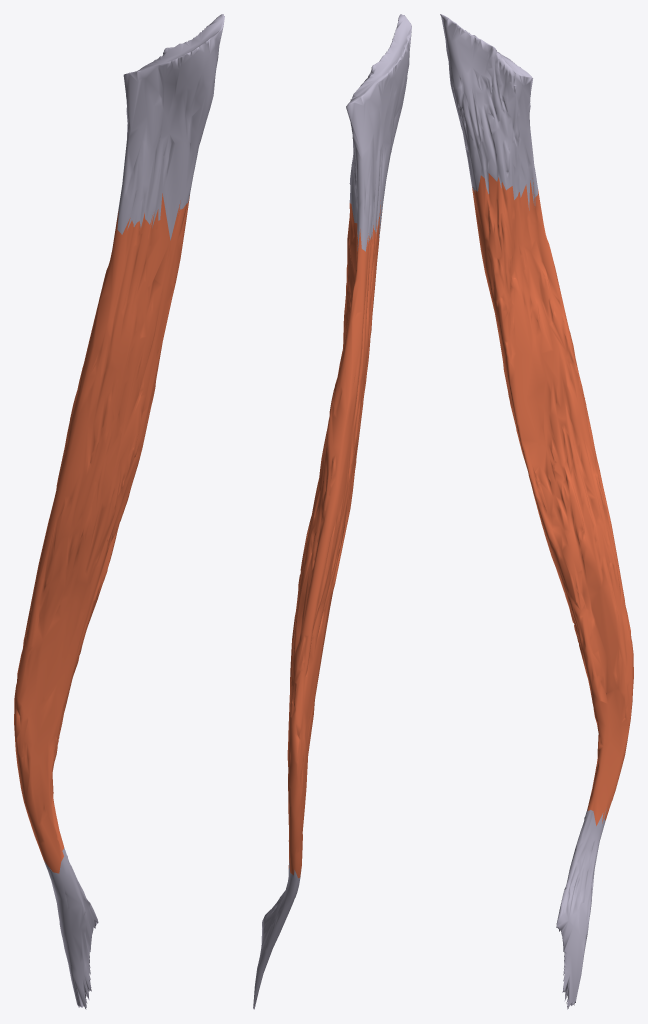
Rendered from Gracilis_left.glb.
3 views of the same model, side by side, from view 1: azimuth 90°, elevation 25°; view 2: azimuth 150°, elevation 25°; view 3: azimuth 270°, elevation 25° (orthographic). The views are drawn at different scales.
Parts seen in each view (by area): view 1: Gracilis_muscle.l_Generated_Mesh_From_X3D.482; view 2: Gracilis_muscle.l_Generated_Mesh_From_X3D.482; view 3: Gracilis_muscle.l_Generated_Mesh_From_X3D.482.
Boxes of the visible parts, left/top/right/bottom form: Gracilis_muscle.l_Generated_Mesh_From_X3D.482: left=14, top=14, right=224, bottom=1009; Gracilis_muscle.l_Generated_Mesh_From_X3D.482: left=253, top=14, right=411, bottom=1009; Gracilis_muscle.l_Generated_Mesh_From_X3D.482: left=440, top=14, right=633, bottom=1009.
Bounding box in the file's own units: 0.0531 × 0.4936 × 0.0908.
